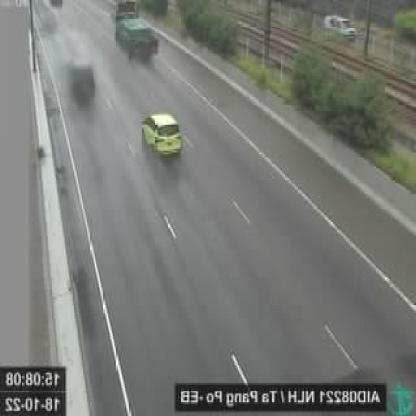Car: (141, 110, 184, 160), (66, 60, 97, 105)
Truck: (112, 0, 160, 60)
